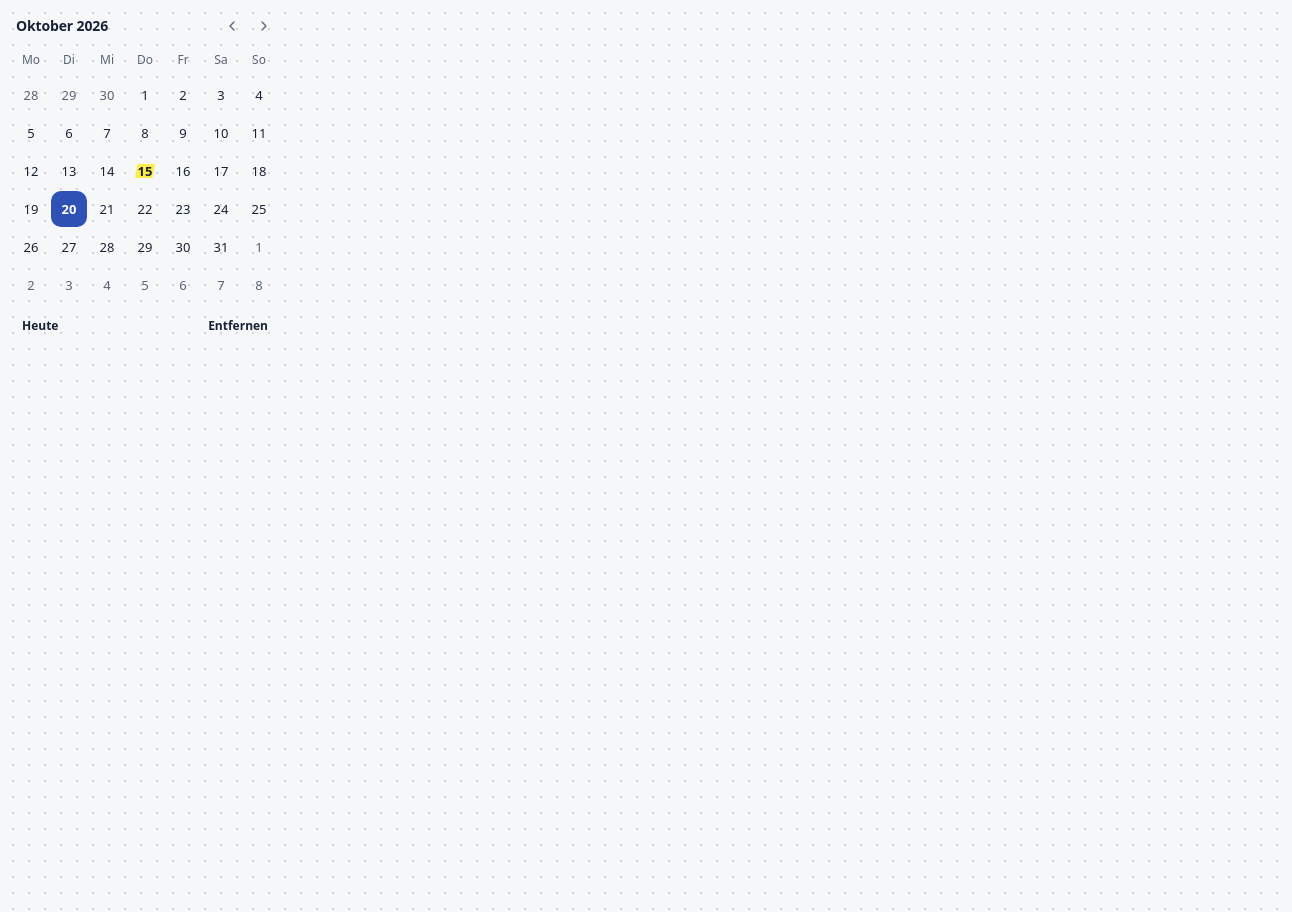
Test: Calendar › removes the choice with "Entfernen", which only shows while a day is chosen
Click the button "Entfernen" at (238, 326), box x1=198 y1=312 x2=278 y2=340
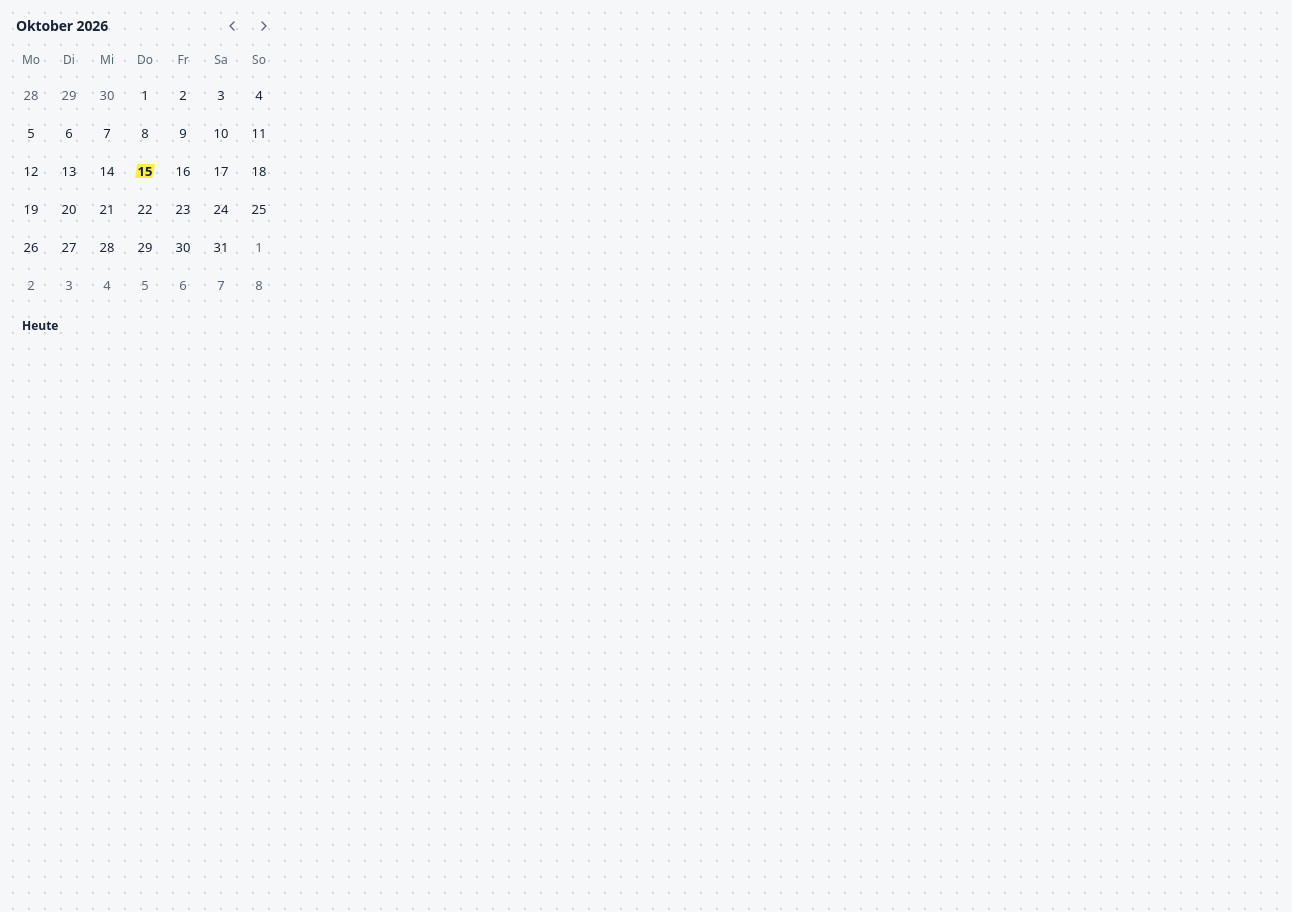
Check: the button "Entfernen" is gone
